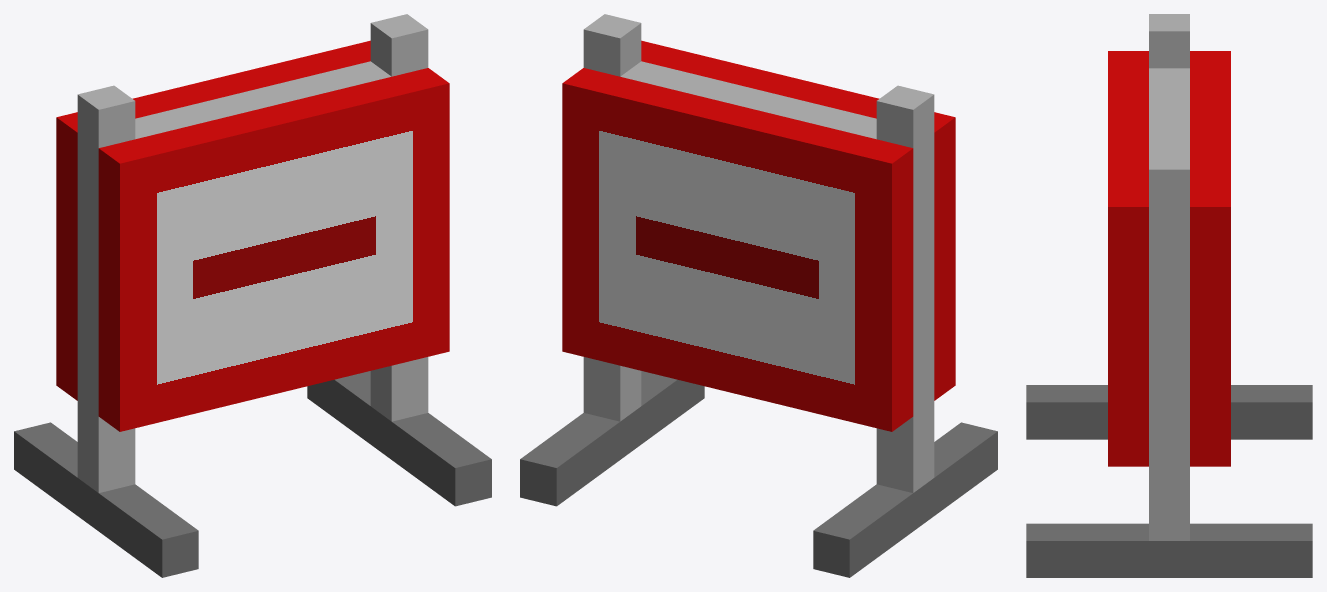
The model's file is obj_sign8.fbx.
The picture shows the model from 3 angles, left to right: view 1: azimuth 30°, elevation 25°; view 2: azimuth 150°, elevation 25°; view 3: azimuth 270°, elevation 25°; orthographic projection. The views are drawn at different scales.
Visible parts, largest first — view 1: obj_sign8; view 2: obj_sign8; view 3: obj_sign8.
Part boxes in pixels (<box>): obj_sign8: <box>14,14,491,577</box>; obj_sign8: <box>520,14,997,577</box>; obj_sign8: <box>1026,14,1312,577</box>.
Bounding box in the file's own units: 0.9 × 0.7 × 1.1.
1 material, 1 textured.
